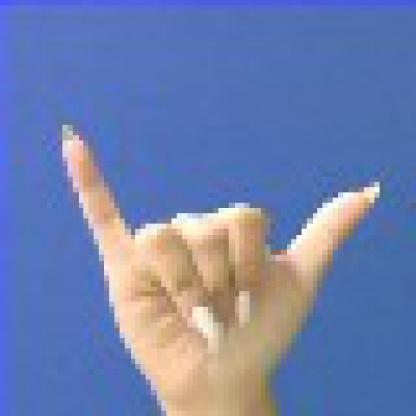six: (47, 99, 400, 411)
